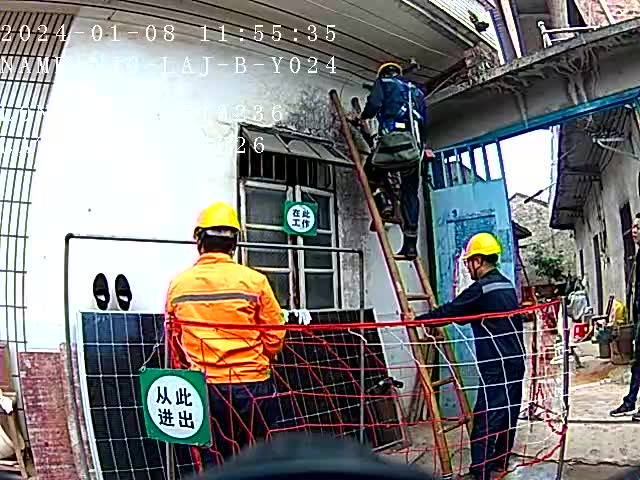halt: (195, 204, 244, 259), (463, 236, 504, 281), (380, 65, 405, 82)
